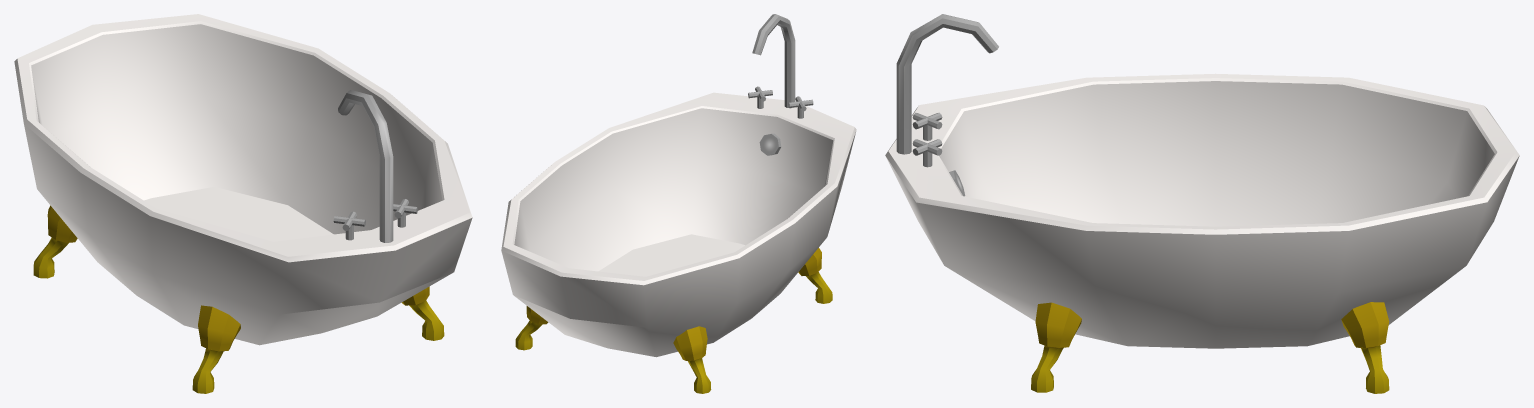
File: Bathtub.fbx
3 views of the same model, side by side, from view 1: azimuth 30°, elevation 25°; view 2: azimuth 150°, elevation 25°; view 3: azimuth 270°, elevation 25° (orthographic). The views are drawn at different scales.
Visible parts, largest first — view 1: Bath_Tub; view 2: Bath_Tub; view 3: Bath_Tub.
Part boxes in pixels (x1,y1,x2,y2): Bath_Tub: (14, 14, 472, 393); Bath_Tub: (501, 14, 856, 393); Bath_Tub: (885, 14, 1519, 393).
Bounding box in the file's own units: 154 × 143 × 259.
1 material, 1 textured.
